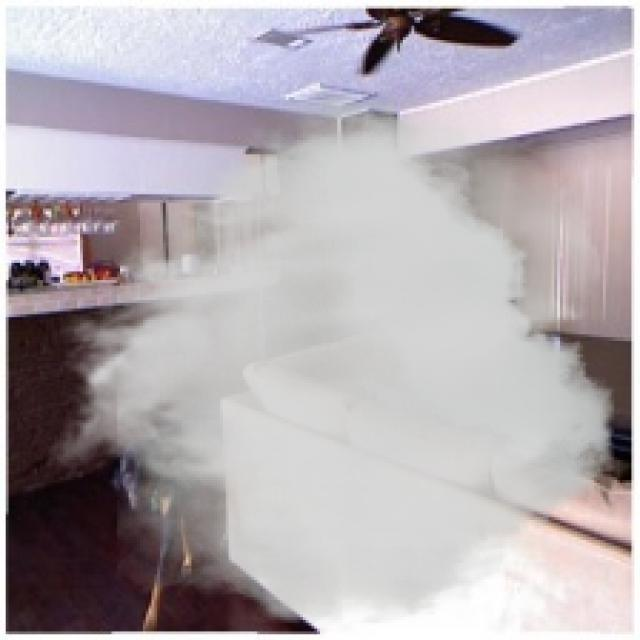Smoke: (46, 99, 614, 632)
